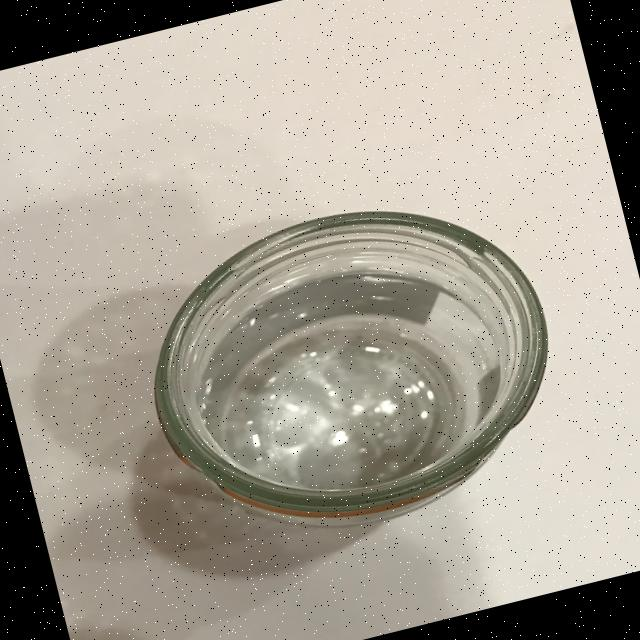glass: (102, 140, 606, 596)
